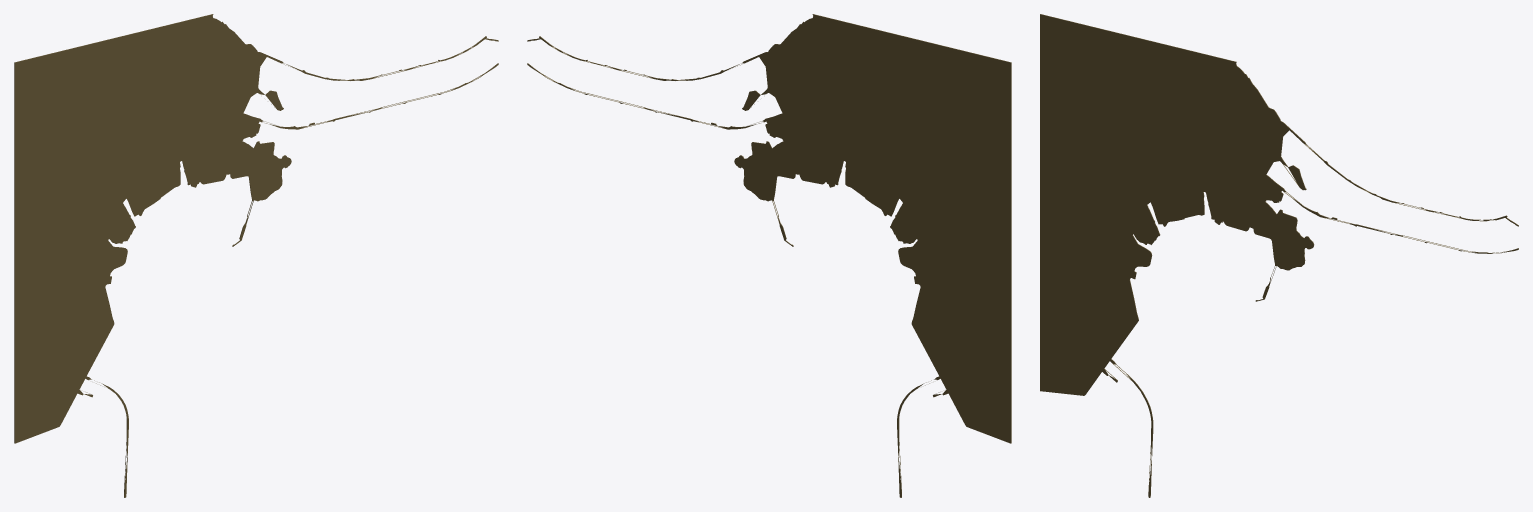
Rendered from chart_obstacle_001.obj.
3 renders of one model, left to right at view 1: azimuth 30°, elevation 25°; view 2: azimuth 150°, elevation 25°; view 3: azimuth 330°, elevation 25°, orthographic.
Parts seen in each view (by area): view 1: chart_obstacle_001; view 2: chart_obstacle_001; view 3: chart_obstacle_001.
Boxes of the visible parts, x1,y1,x2,y2 form: chart_obstacle_001: (14,14,498,497); chart_obstacle_001: (527,14,1011,497); chart_obstacle_001: (1040,14,1518,497).
Size of the model in its own units: 5002 by 4566 by 8.
